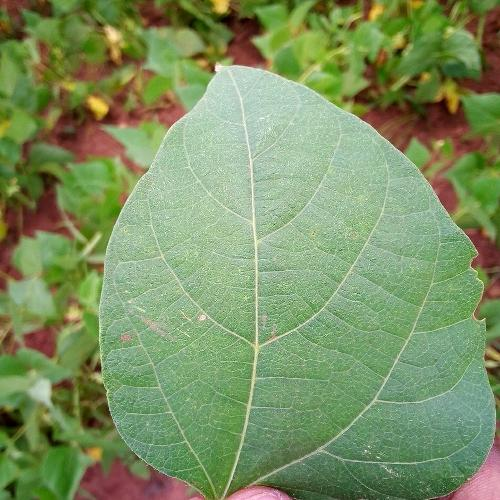hawar: (113, 297, 211, 359)
mozaik: (278, 176, 402, 316)
